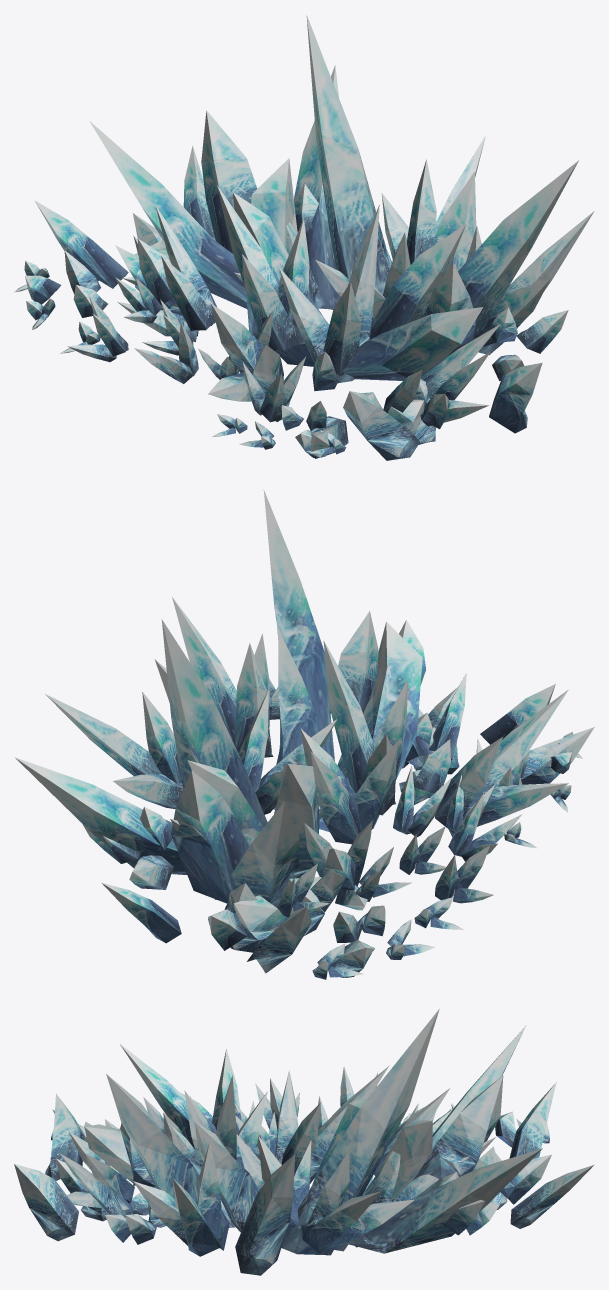
The model's file is ICE.FBX.
3 renders of one model, top to bottom at view 1: azimuth 30°, elevation 25°; view 2: azimuth 150°, elevation 25°; view 3: azimuth 270°, elevation 25°, orthographic. The views are drawn at different scales.
Parts seen in each view (by area): view 1: b2, b5, b3, b1, b4, b6, b10, b7, b11, b8, b9, b12; view 2: b2, b5, b3, b1, b6, b10, b7, b8, b4, b11, b12, b9; view 3: b2, b5, b1, b3, b4, b10, b6, b7, b11, b12, bingzhu024, bingzhu022 (+2 smaller).
Part boxes in pixels (x1,y1,x2,y2): b2: (306, 15, 578, 380); b5: (89, 65, 340, 337); b3: (217, 185, 379, 391); b1: (381, 135, 594, 381); b4: (348, 324, 542, 444); b6: (115, 205, 216, 342); b10: (198, 303, 306, 449); b7: (14, 200, 128, 329); b11: (295, 391, 419, 460); b8: (60, 295, 193, 362); b9: (134, 322, 198, 383); b12: (183, 146, 215, 240); b2: (161, 489, 422, 832); b5: (14, 757, 299, 903); b3: (274, 640, 451, 878); b1: (45, 597, 279, 809); b6: (208, 820, 411, 952); b10: (435, 689, 571, 837); b7: (247, 905, 434, 979); b8: (399, 826, 493, 929); b4: (399, 620, 466, 804); b11: (480, 684, 594, 784); b12: (101, 882, 181, 943); b9: (448, 792, 522, 861); b2: (84, 1009, 439, 1255); b5: (347, 1025, 542, 1253); b1: (105, 1141, 414, 1275); b3: (170, 1065, 389, 1251); b4: (14, 1131, 148, 1241); b10: (119, 1043, 254, 1149); b6: (373, 1088, 551, 1209); b7: (447, 1082, 556, 1158); b11: (45, 1094, 118, 1180); b12: (510, 1165, 593, 1228); bingzhu024: (370, 1151, 400, 1204); bingzhu022: (393, 1137, 495, 1201).
Bounding box in the file's own units: 1269 × 818 × 1658.
